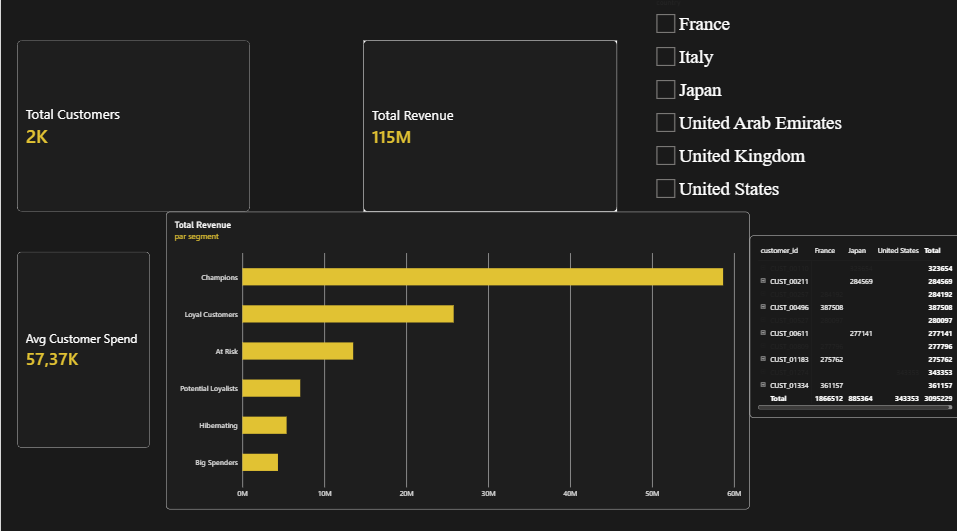

The page's visual inventory and layout, read from the dashboard file:
{"tool":"powerbi","page":{"name":"Page 1","canvas":[1920,1080],"ordinal":0},"visuals":[{"type":"cardVisual","fields":{"Data":["transactions.Total Revenue"]},"box":[725,85,507.5,342.5],"z":0},{"type":"cardVisual","fields":{"Data":["transactions.Total Customers"]},"box":[32.5,85,465,342.5],"z":1000},{"type":"cardVisual","fields":{"Data":["transactions.Avg Customer Spend"]},"box":[32.5,507.5,265,392.5],"z":2000},{"type":"clusteredBarChart","fields":{"Category":["customer_rfm.segment"],"Y":["transactions.Total Revenue"]},"box":[330,427.5,1167.5,595],"z":3000},{"type":"slicer","fields":{"Values":["customers.country"]},"box":[1302.5,0,600,427.5],"z":4000},{"type":"pivotTable","fields":{"Columns":["customers.country"],"Rows":["customers.customer_id","customer_rfm.segment"],"Values":["transactions.Total Revenue"]},"box":[1497.5,475,422.5,365],"z":5000}]}

Visuals, with their boxes in screenshot pixels (x1, y1, x2, y2), scaled from the page's 1920x1080 canvas onto the 957x531 screenshot:
cardVisual - transactions.Total Revenue: bbox=(361, 42, 614, 210)
cardVisual - transactions.Total Customers: bbox=(16, 42, 248, 210)
cardVisual - transactions.Avg Customer Spend: bbox=(16, 250, 148, 442)
clusteredBarChart - customer_rfm.segment x transactions.Total Revenue: bbox=(164, 210, 746, 503)
slicer - customers.country: bbox=(649, 0, 948, 210)
pivotTable - customers.country x customers.customer_id: bbox=(746, 234, 956, 413)
